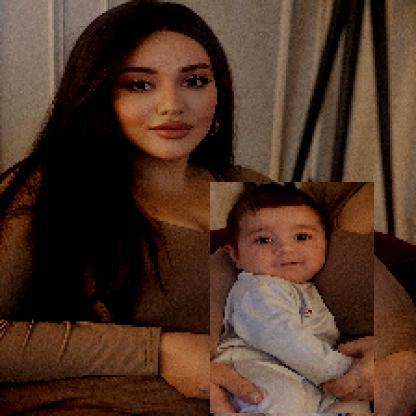child: (211, 183, 376, 415)
